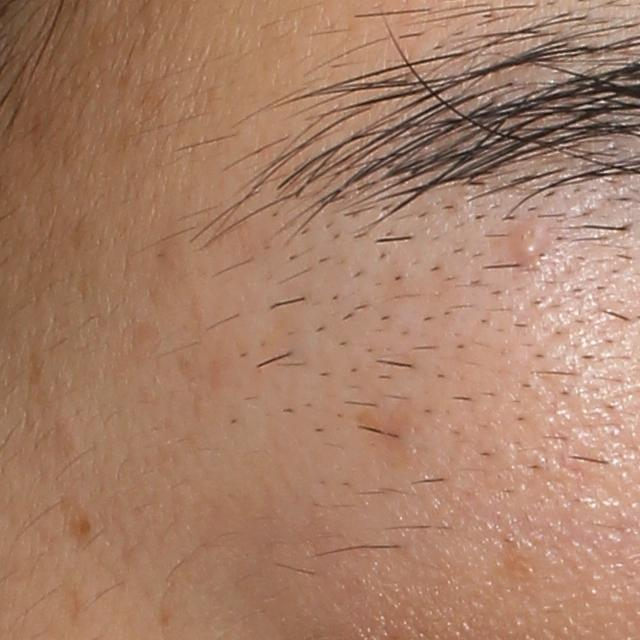papule: (504, 223, 552, 269)
